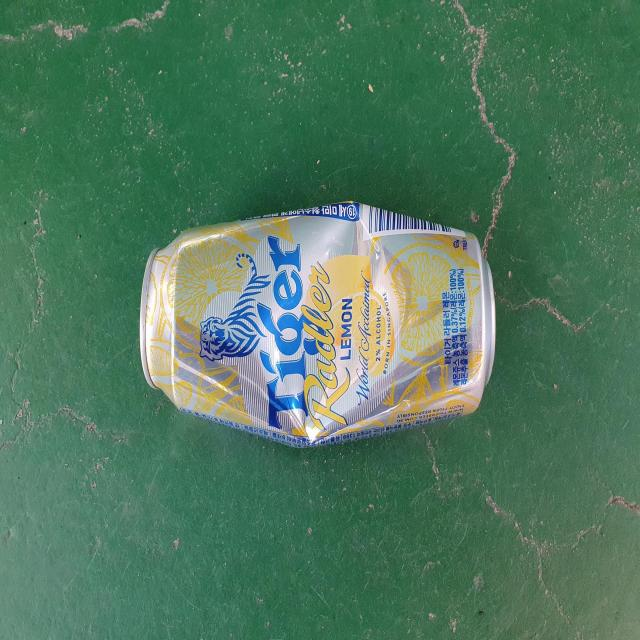can: (139, 201, 496, 446)
